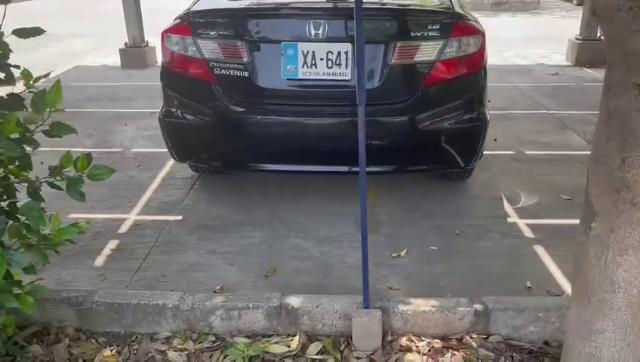plate: (281, 41, 353, 82)
